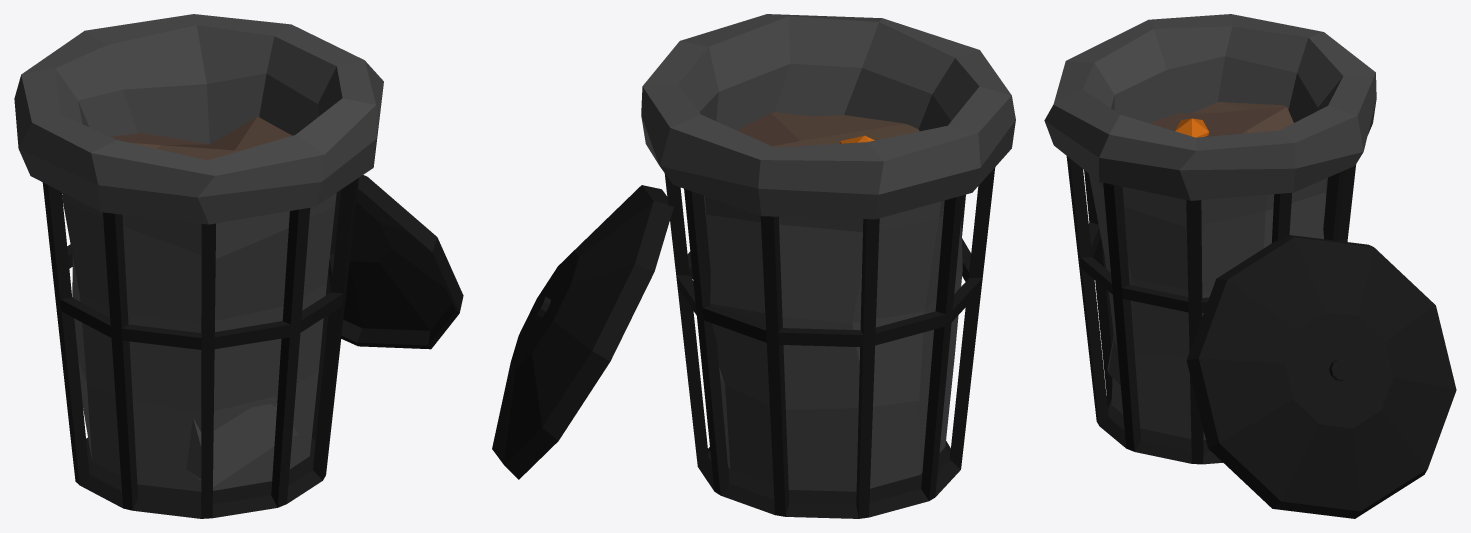
Rendered from Trashbin.fbx.
The picture shows the model from 3 angles, left to right: view 1: azimuth 30°, elevation 25°; view 2: azimuth 150°, elevation 25°; view 3: azimuth 270°, elevation 25°; orthographic projection. The views are drawn at different scales.
Visible parts, largest first — view 1: Trashbin; view 2: Trashbin; view 3: Trashbin.
Boxes of the visible parts, x1,y1,x2,y2 form: Trashbin: (14, 14, 463, 518); Trashbin: (492, 14, 1015, 518); Trashbin: (1044, 14, 1456, 518).
Size of the model in its own units: 176 by 160 by 146.
